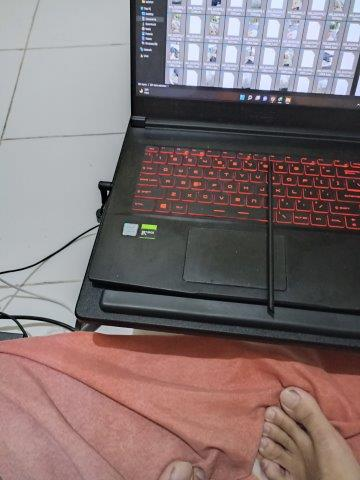sedotan: (268, 173, 276, 313)
